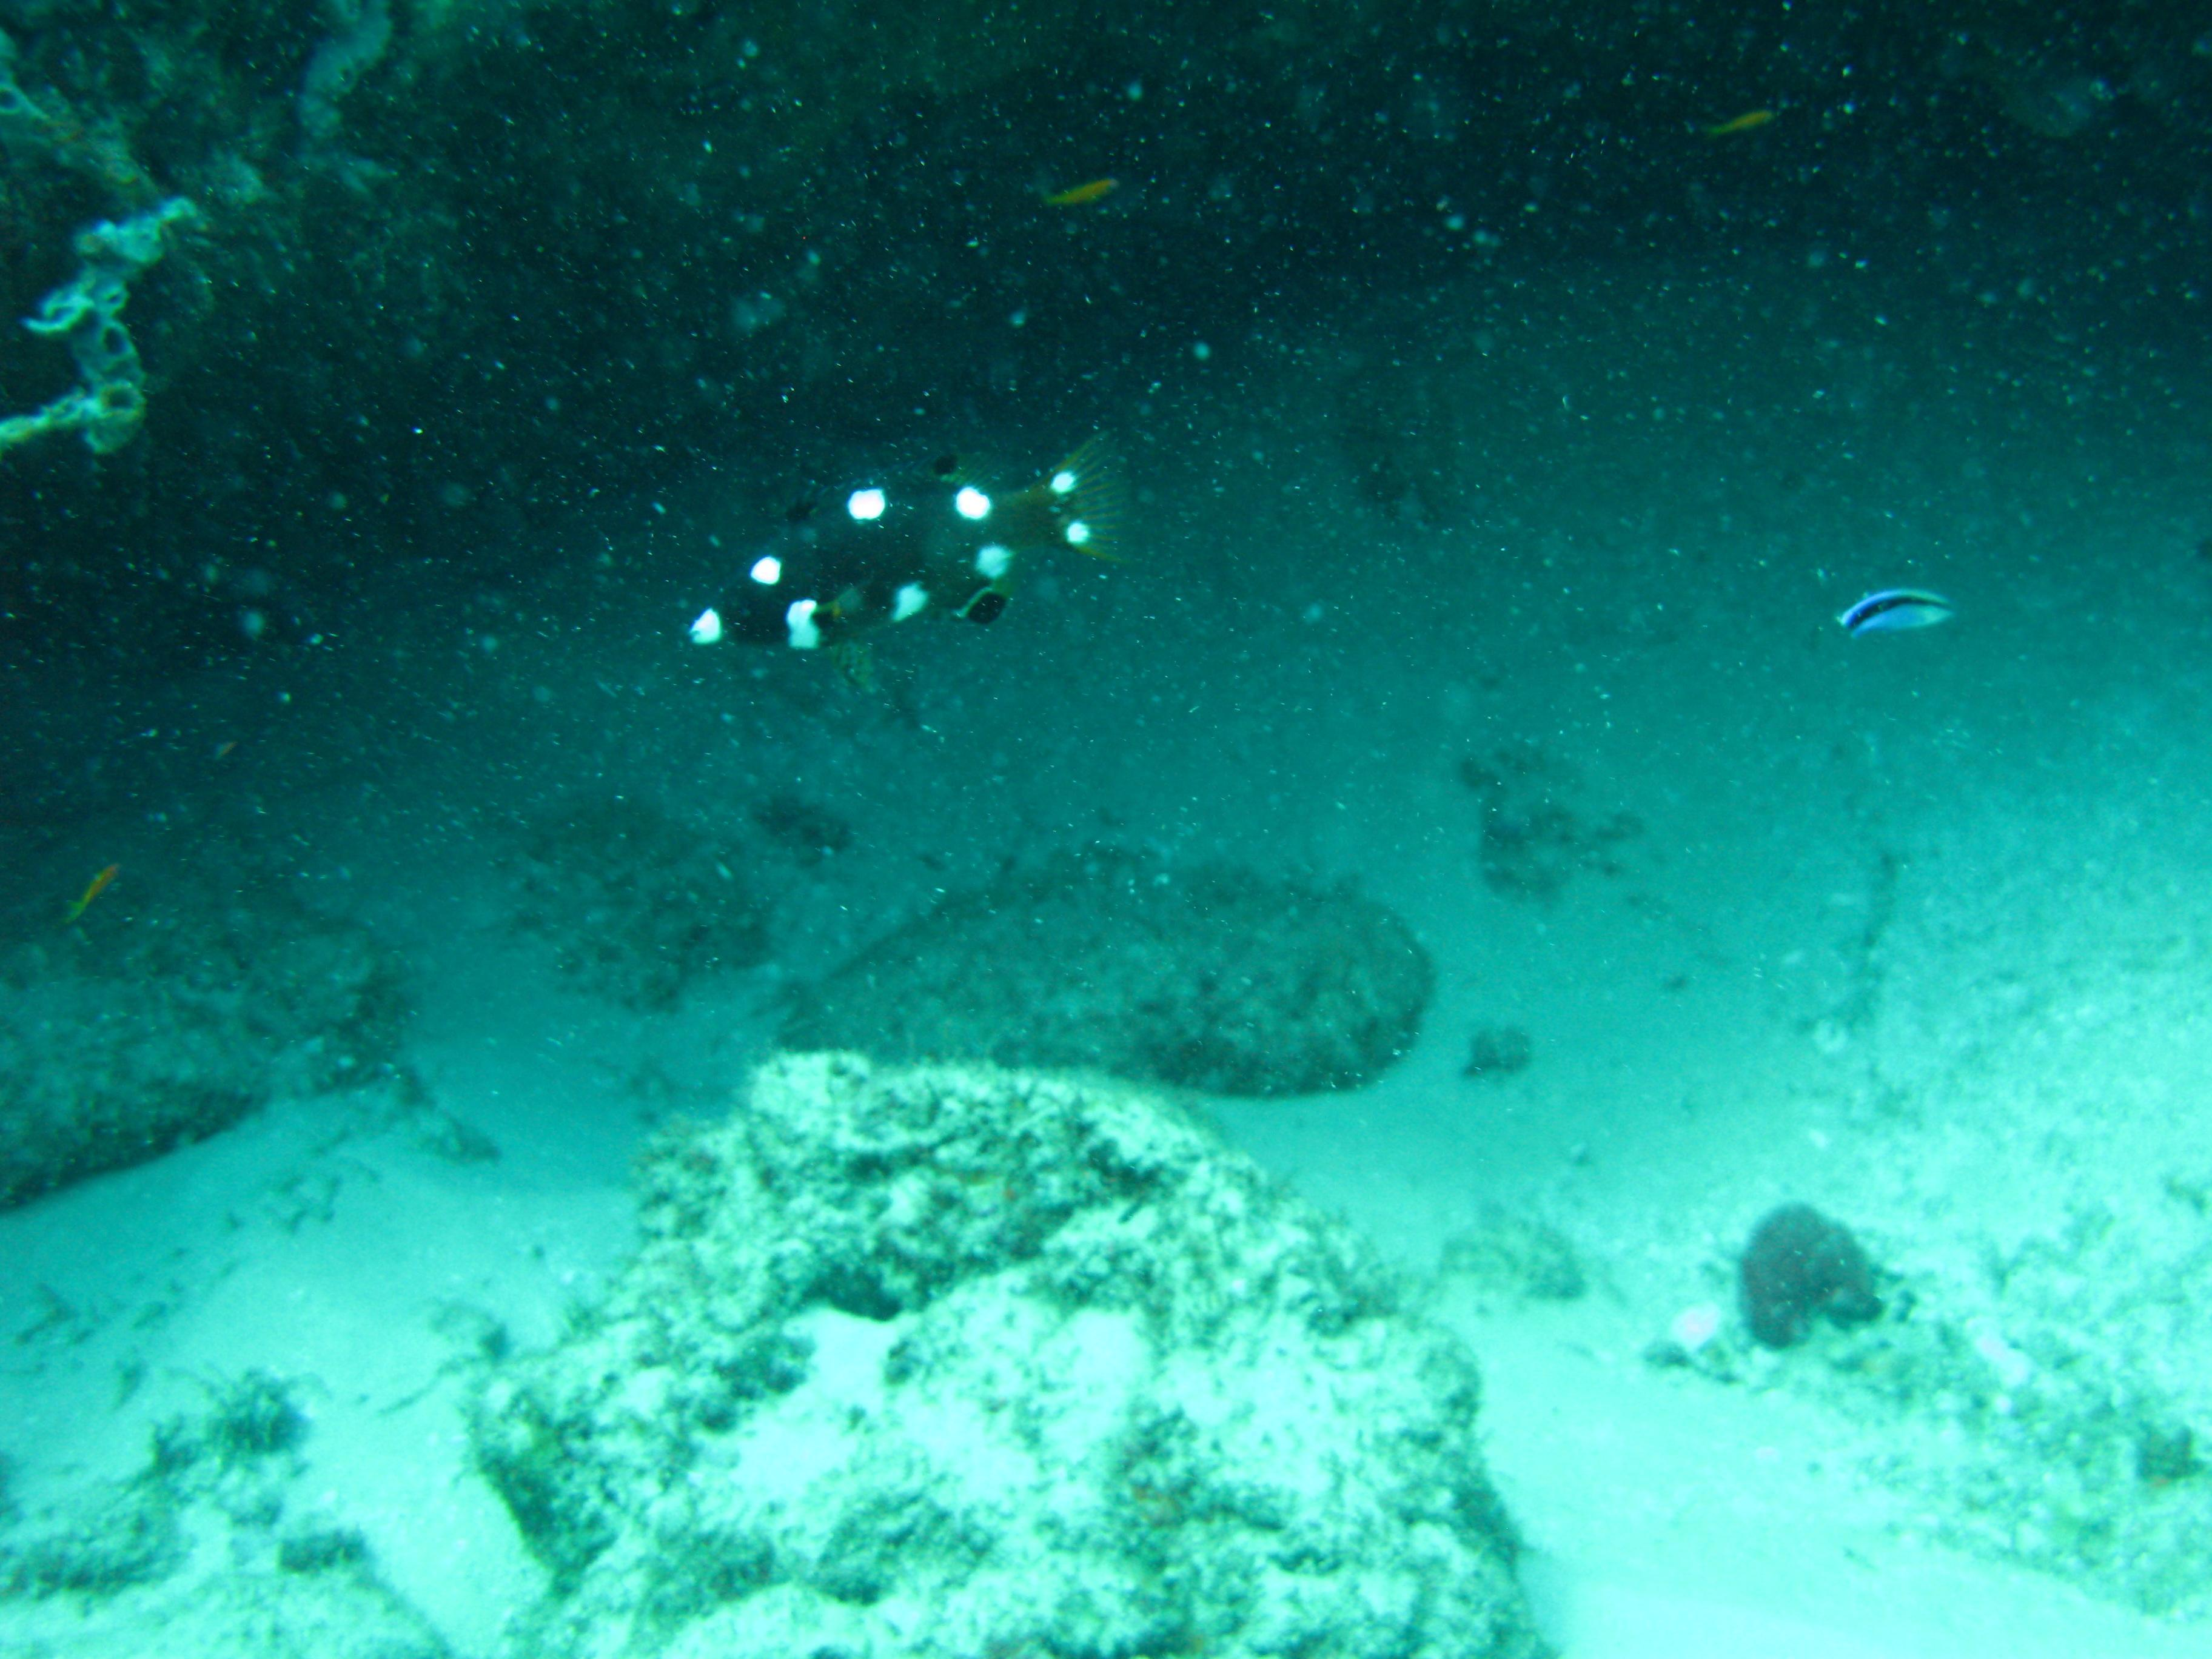Fish: (590, 410, 1249, 728)
